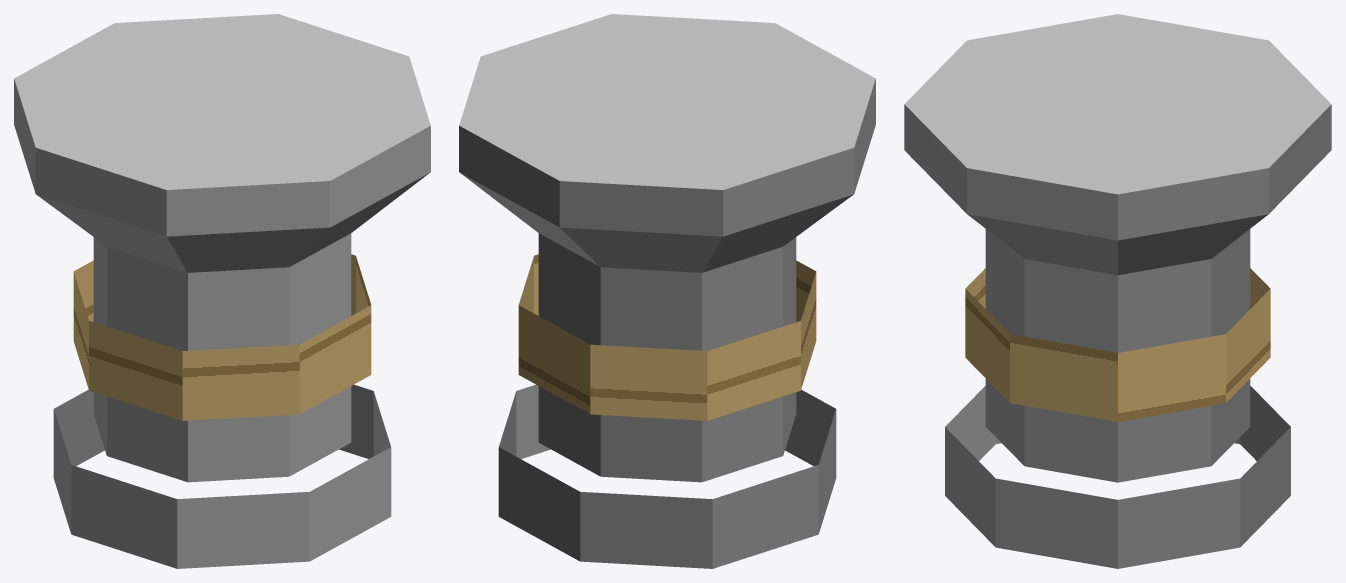
Rendered from bollard.obj.
The picture shows the model from 3 angles, left to right: view 1: azimuth 30°, elevation 25°; view 2: azimuth 150°, elevation 25°; view 3: azimuth 270°, elevation 25°; orthographic projection.
Bounding box in the file's own units: 8.4 × 8.5 × 8.4.
